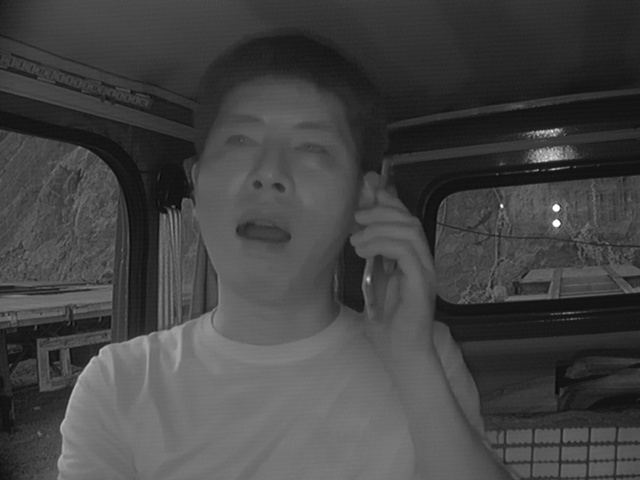hand: (347, 188, 439, 357)
